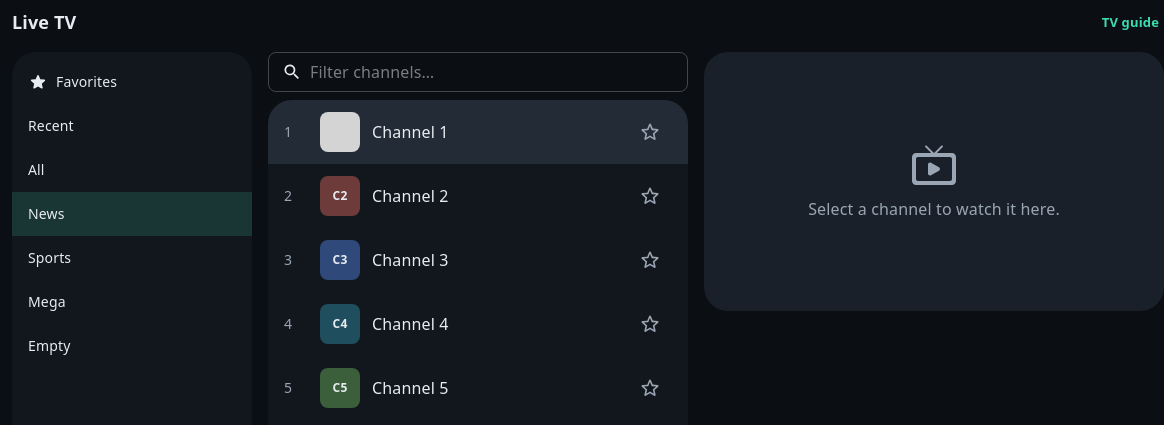
LIV-04 — quick channel filter › no match shows an empty state with a way to clear the filter
The image size is (1164, 425).
Type "zzz" into the search field labelled "Filter channels".
click(499, 72); type("zzz")  # box [310,52,688,92]
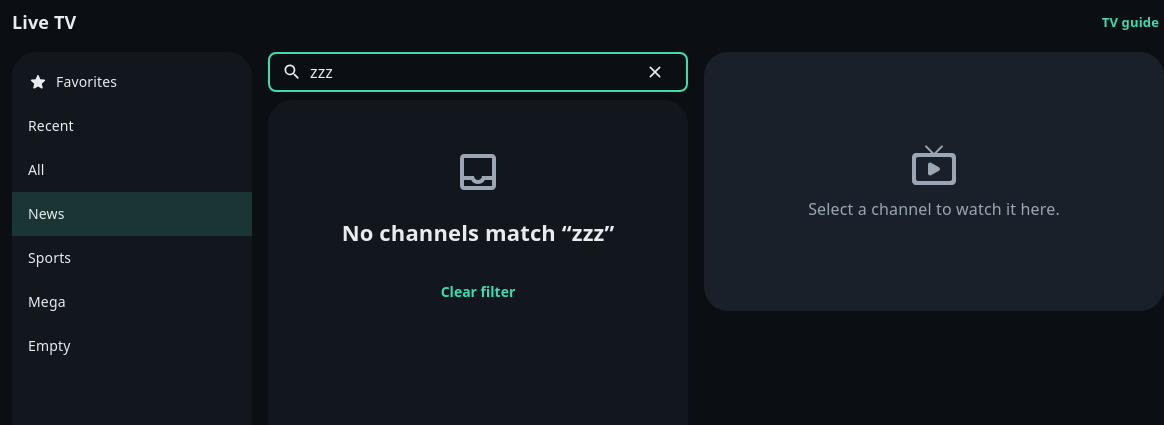
Check: the heading "No channels match “zzz”" is shown, box [342,217,614,247]
Check: the number of buttons named "Clear filter" is 2
Click the button "Clear filter".
click(478, 293)  # box [433,271,523,315]
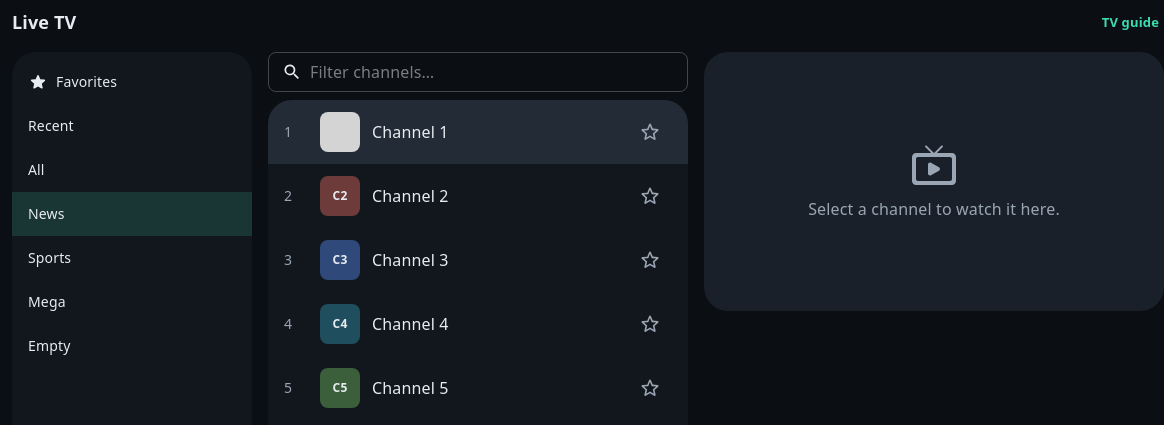
Check: the search field labelled "Filter channels" is empty, box [310,52,688,92]
